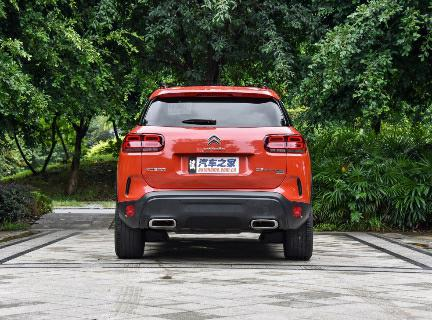雪铁龙-天逸C5AIRCROSS: (108, 76, 323, 271)
